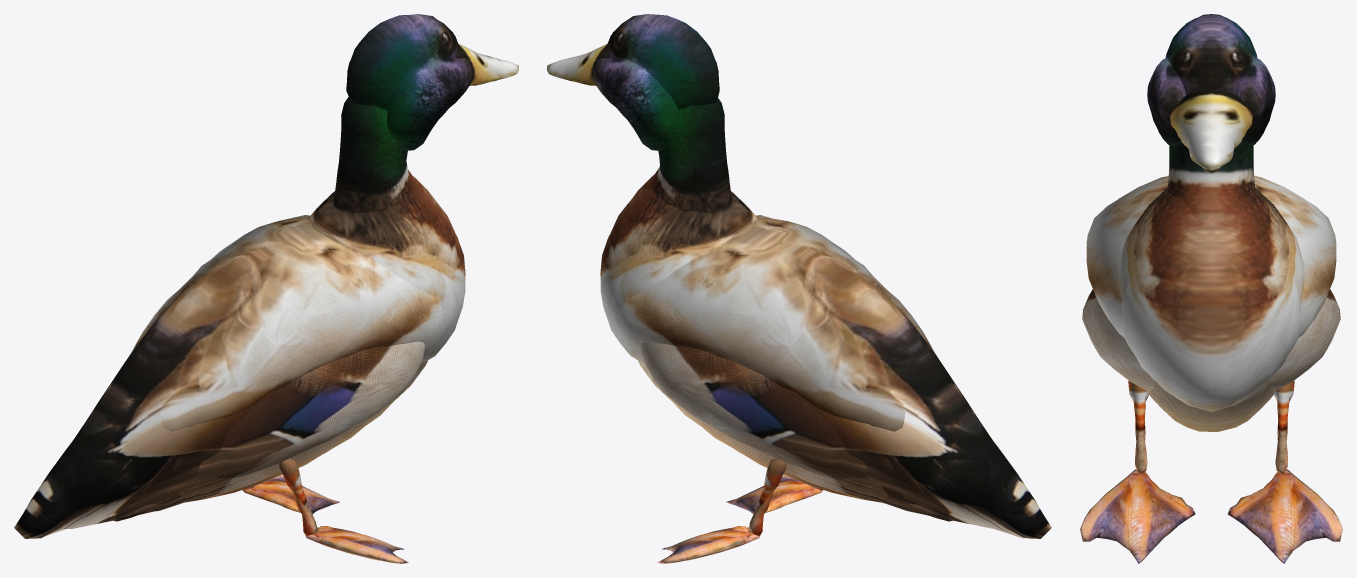
The model's file is asset.gltf.
3 renders of one model, left to right at view 1: azimuth 30°, elevation 25°; view 2: azimuth 150°, elevation 25°; view 3: azimuth 270°, elevation 25°, orthographic. The views are drawn at different scales.
Bounding box in the file's own units: 105 × 99.65 × 42.27.
Materials: 1 (1 with a texture image).
